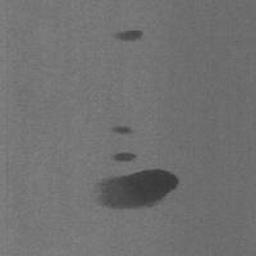Oil spot: (90, 168, 180, 210), (110, 29, 145, 42), (109, 125, 137, 136), (110, 152, 138, 163)
